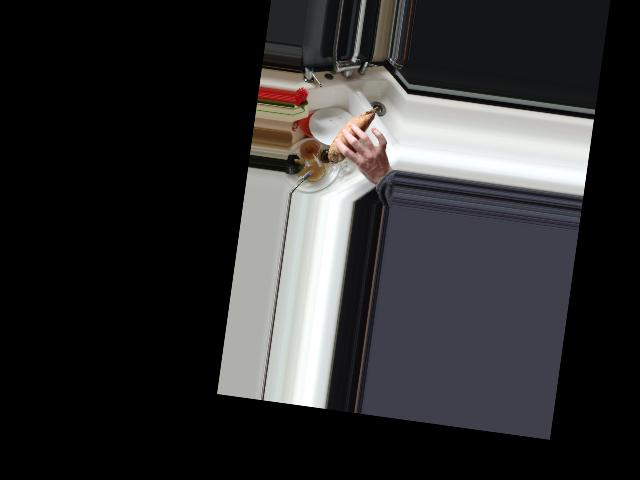sweet_potato: (326, 100, 379, 167)
